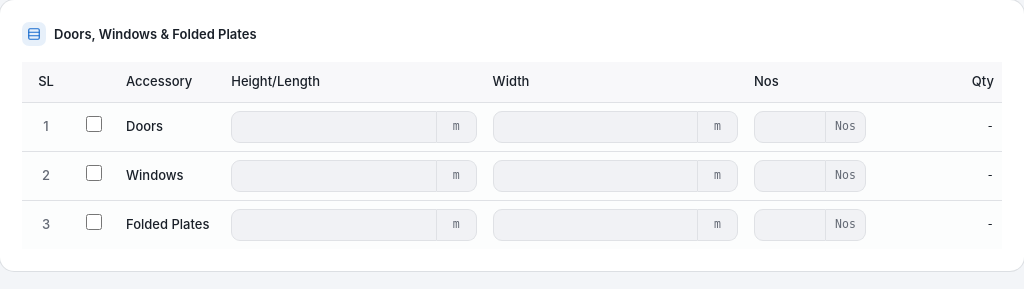
Scenario: DoorsWindowsFoldedPlates › updates door fields and displays calculated quantity
This screenshot has width=1024, height=289.
Click the checkbox named "Include Doors" at (94, 124), box [86,116,102,132]
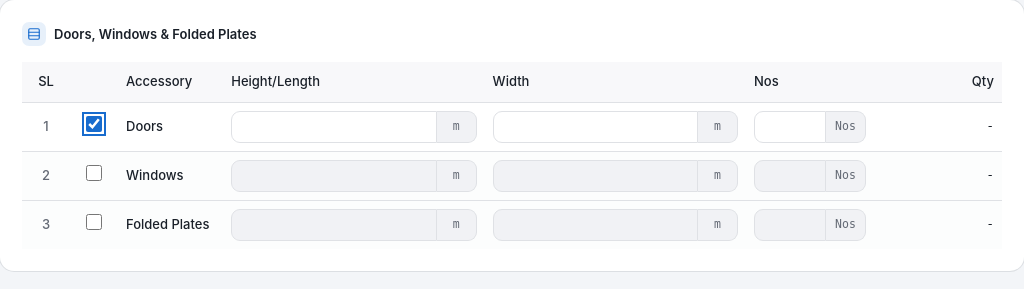
Type "2.1" into the 1st number field at (334, 126), box [231,110,437,142]
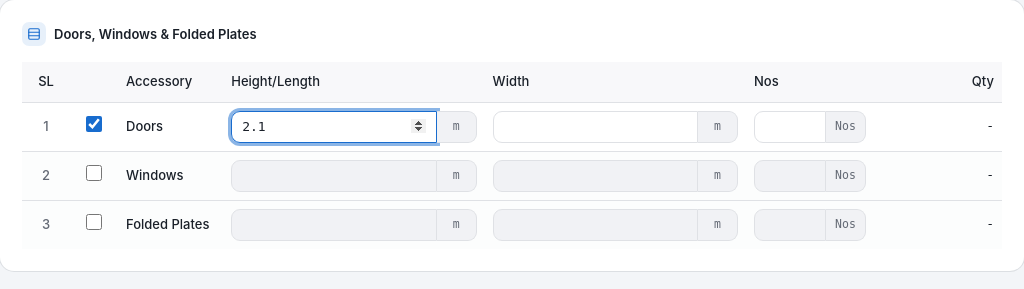
Type "0.9" into the 2nd number field at (595, 126), box [493,110,698,142]
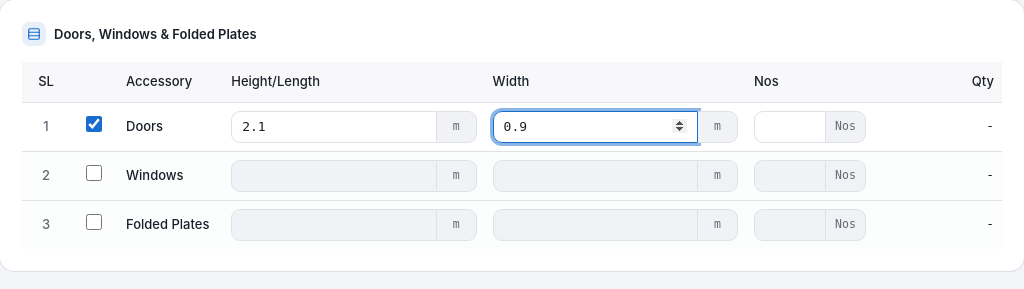
Type "3" into the 3rd number field at (790, 126), box [754,110,826,142]
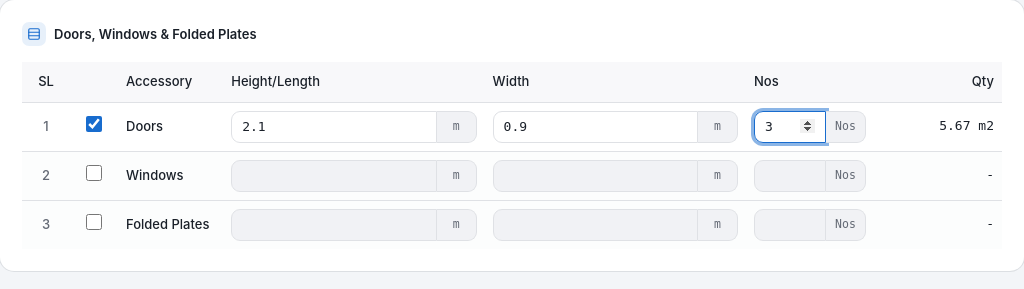
Expected: the text "5.67 m2" is shown, [874,102,1002,151]
